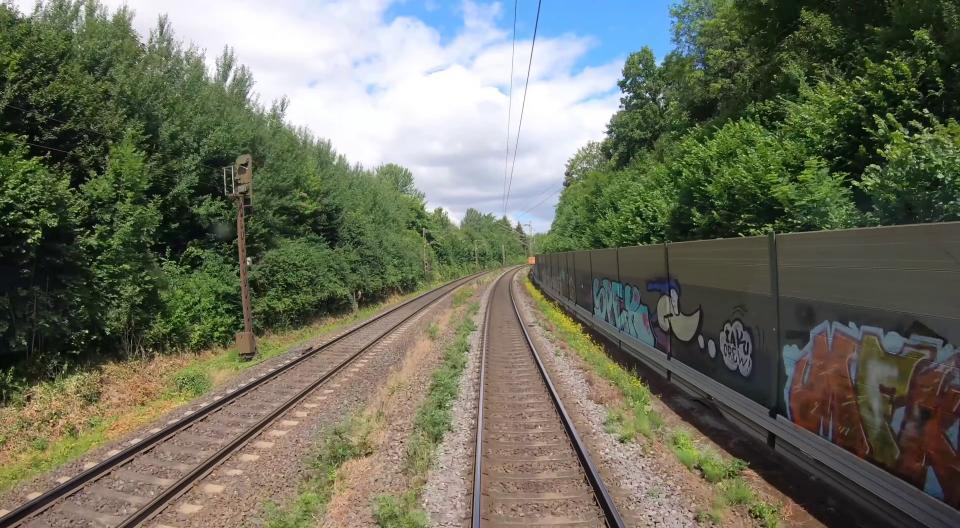Plant: (263, 273, 494, 528), (519, 275, 665, 443), (375, 303, 478, 528), (668, 428, 782, 528)
